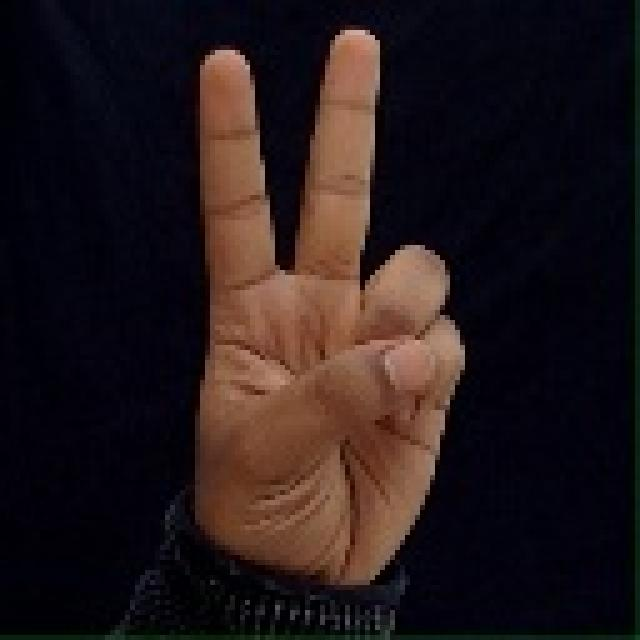Numeric-2: (193, 26, 464, 590)
